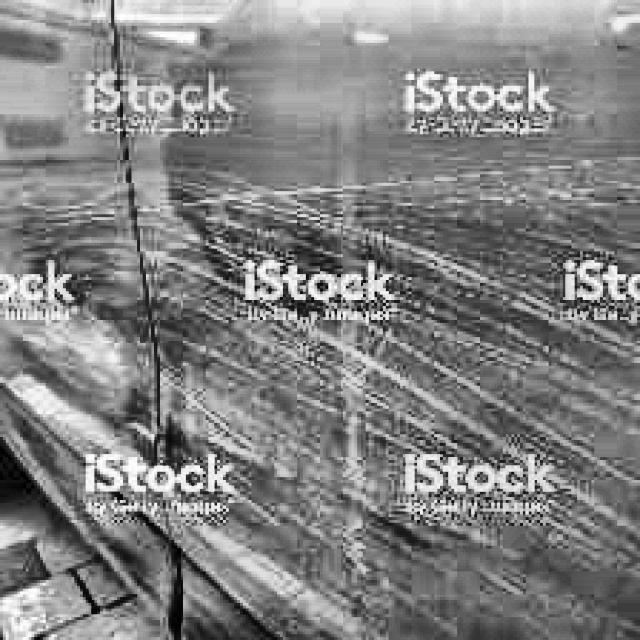door_scratch: (145, 311, 599, 484)
